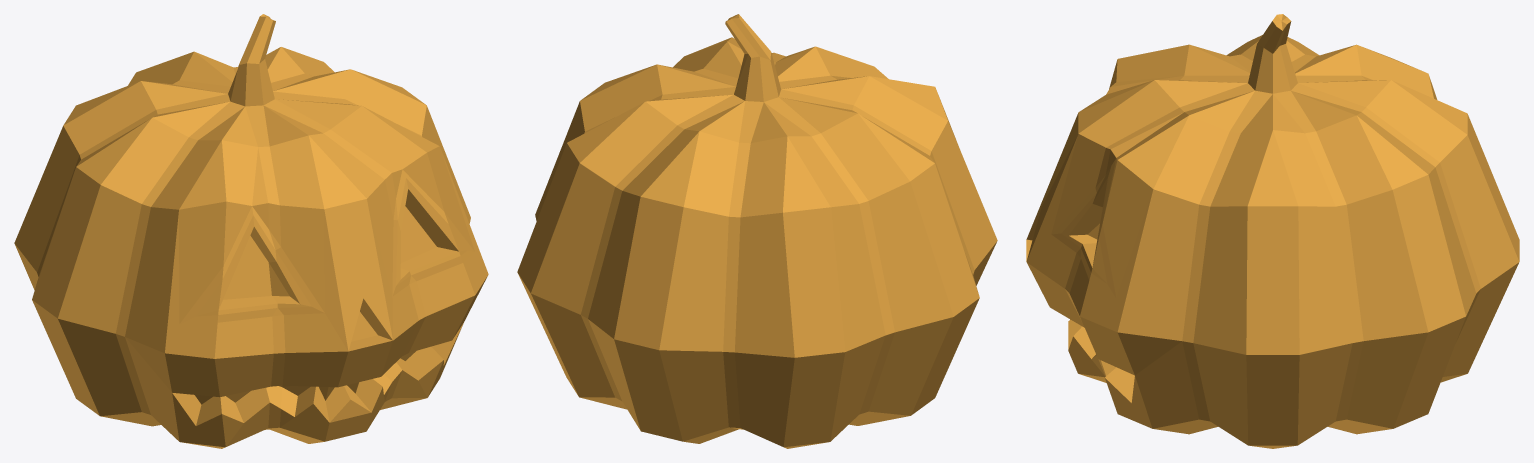
File: pumpkin-carved-lit-c.fbx
3 renders of one model, left to right at view 1: azimuth 30°, elevation 25°; view 2: azimuth 150°, elevation 25°; view 3: azimuth 270°, elevation 25°, orthographic. The views are drawn at different scales.
Parts seen in each view (by area): view 1: pumpkin-carved-lit-c; view 2: pumpkin-carved-lit-c; view 3: pumpkin-carved-lit-c.
Boxes of the visible parts, <box> form: pumpkin-carved-lit-c: <box>14,14,488,448</box>; pumpkin-carved-lit-c: <box>517,14,997,448</box>; pumpkin-carved-lit-c: <box>1026,14,1519,448</box>.
Size of the model in its own units: 0.6149 by 0.5403 by 0.6149.
